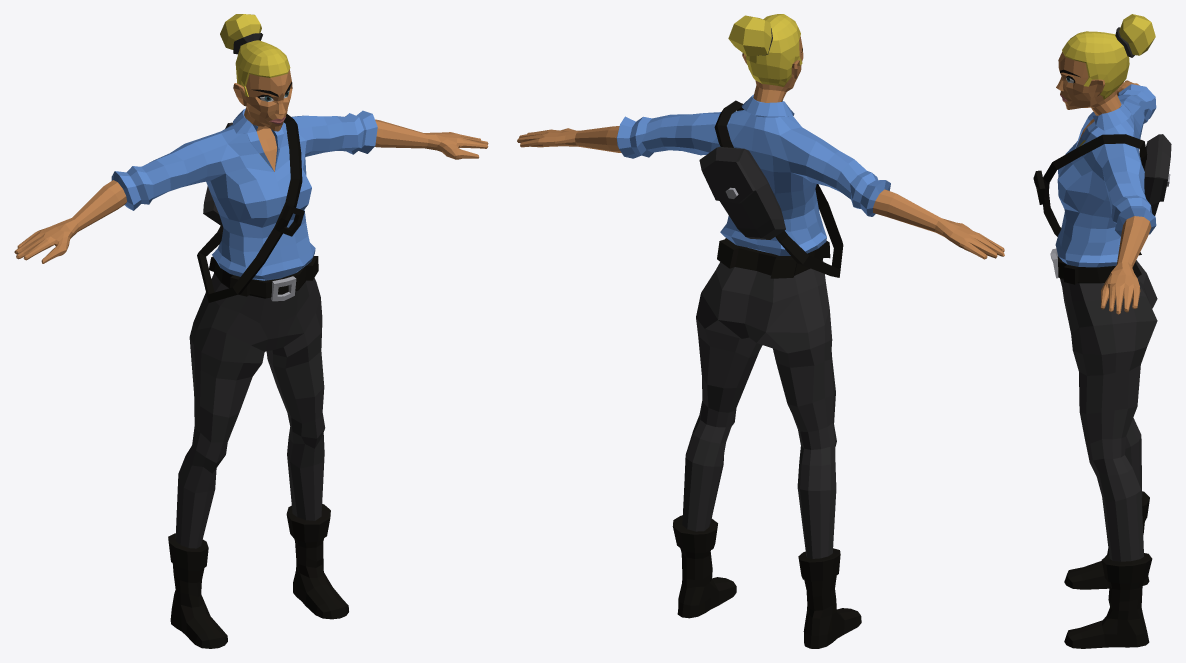
The model's file is Adventure_F_3.fbx.
3 views of the same model, side by side, from view 1: azimuth 30°, elevation 25°; view 2: azimuth 150°, elevation 25°; view 3: azimuth 270°, elevation 25° (orthographic). The views are drawn at different scales.
Visible parts, largest first — view 1: Adventure_F_3, Adventure_F_3_Bag; view 2: Adventure_F_3, Adventure_F_3_Bag; view 3: Adventure_F_3, Adventure_F_3_Bag.
Boxes of the visible parts, x1,y1,x2,y2 form: Adventure_F_3: [14, 14, 488, 648]; Adventure_F_3_Bag: [197, 114, 304, 302]; Adventure_F_3: [517, 14, 1004, 648]; Adventure_F_3_Bag: [699, 100, 843, 277]; Adventure_F_3: [1050, 14, 1157, 648]; Adventure_F_3_Bag: [1033, 134, 1171, 236].
Bounding box in the file's own units: 153 × 184 × 38.68.
1 material, 1 textured.
